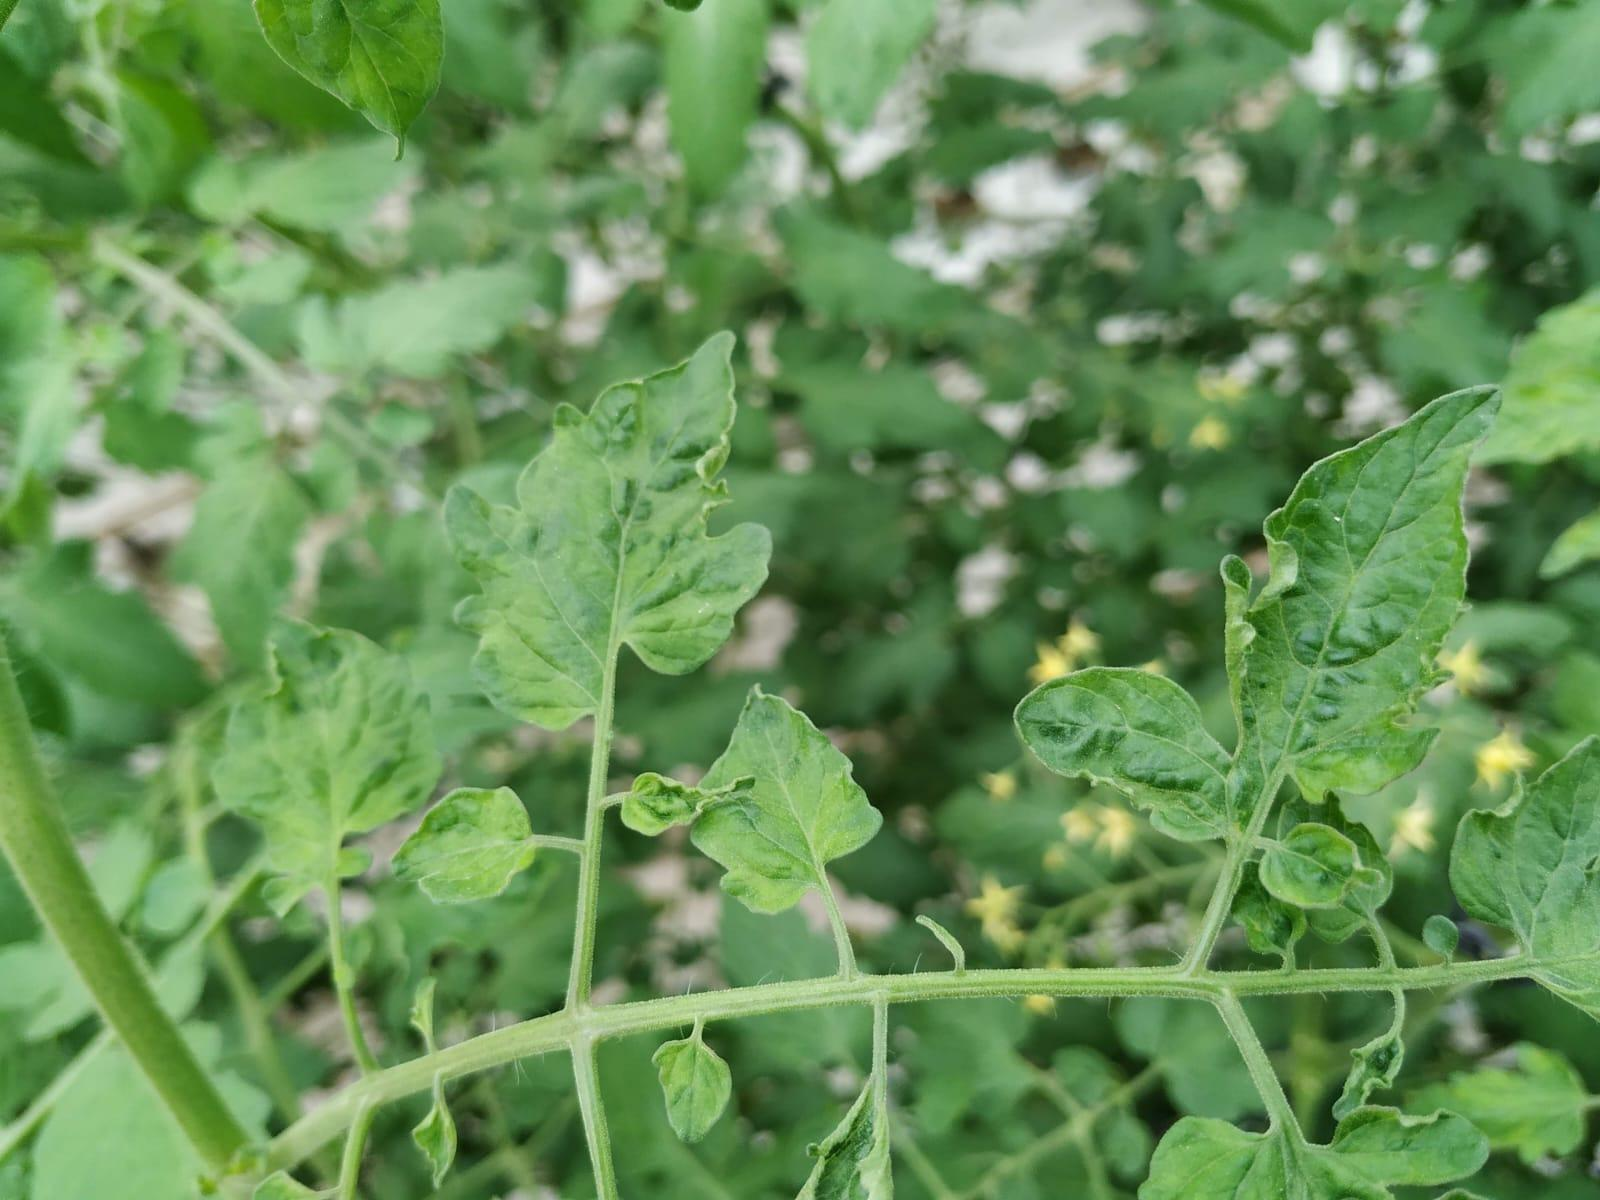Hoja: (253, 0, 443, 159)
Hoja rugoso: (447, 332, 772, 729), (1231, 387, 1497, 834), (622, 687, 881, 913), (1015, 669, 1231, 841)
Pedunculo: (275, 981, 828, 1168), (886, 966, 1484, 1003)
